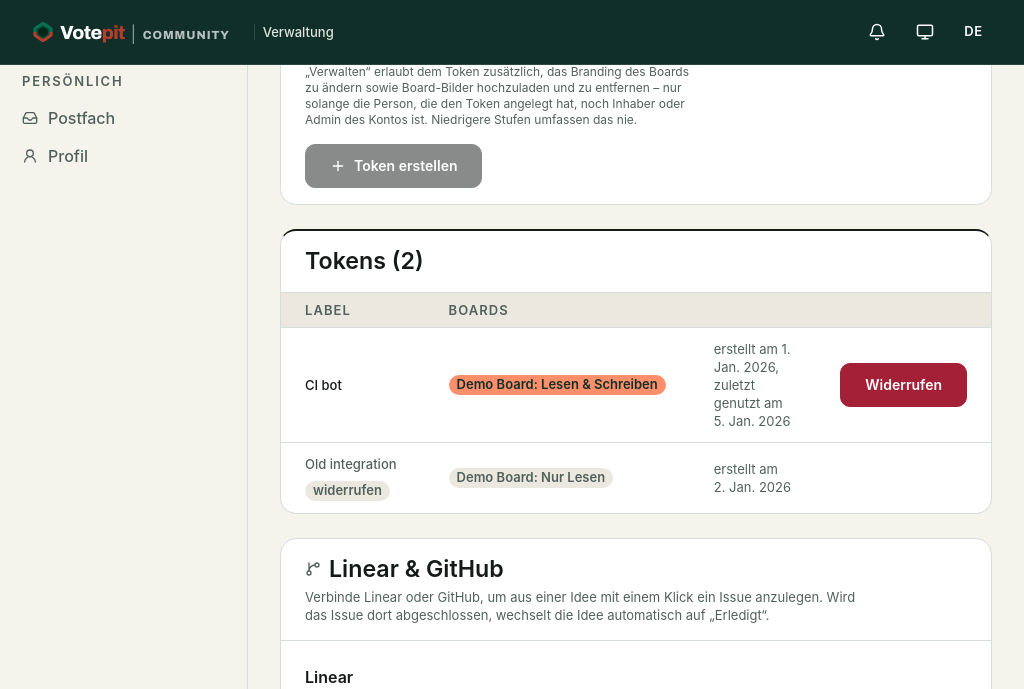
ApiTokensPage — revoke › sends a revoke request and reloads the list
(page scrolled)
What coordinates should you click on to do the following:
click the button named "Token „CI bot\" widerrufen"
I would click on:
 (904, 385)
Its box is [840,363,967,407].
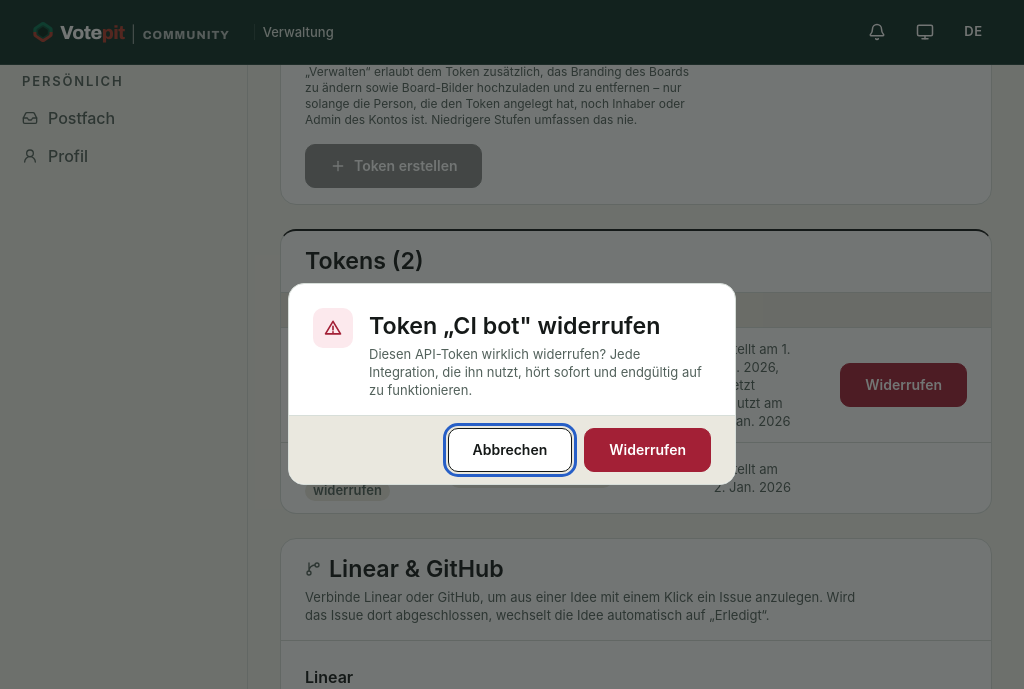
What coordinates should you click on to do the following:
click the button "Widerrufen"
I would click on:
 (648, 450)
Its box is [584,428,711,472].
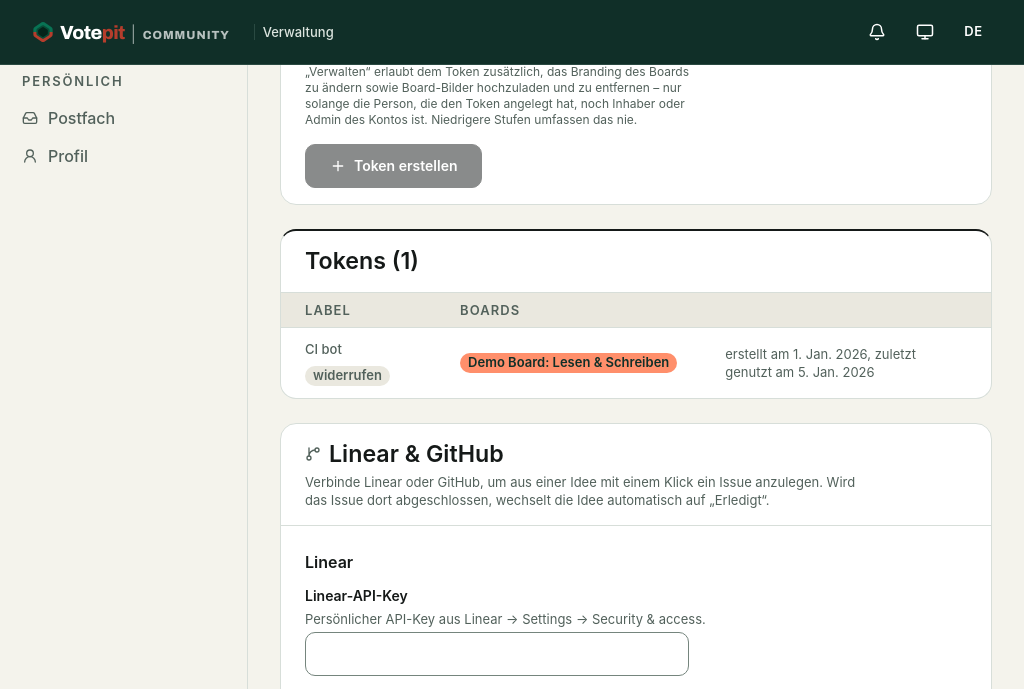
Check: the heading labelled "Token „CI bot\" widerrufen" is gone
